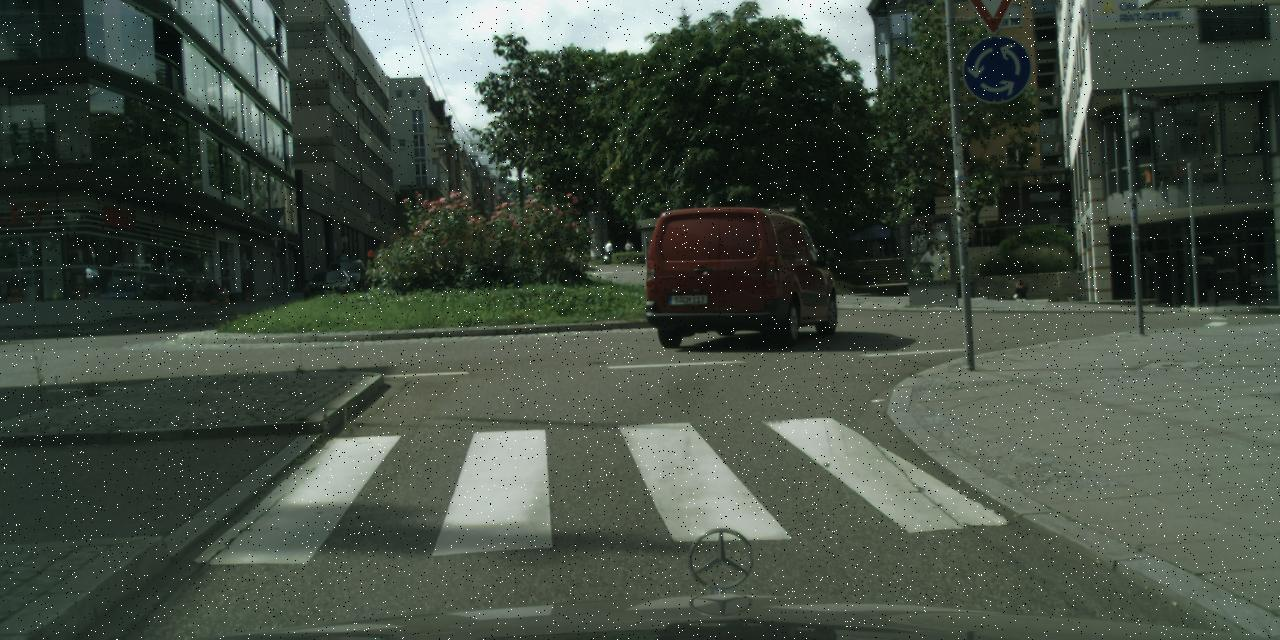ped: (1012, 279, 1028, 318), (624, 239, 632, 262), (604, 240, 612, 263)
